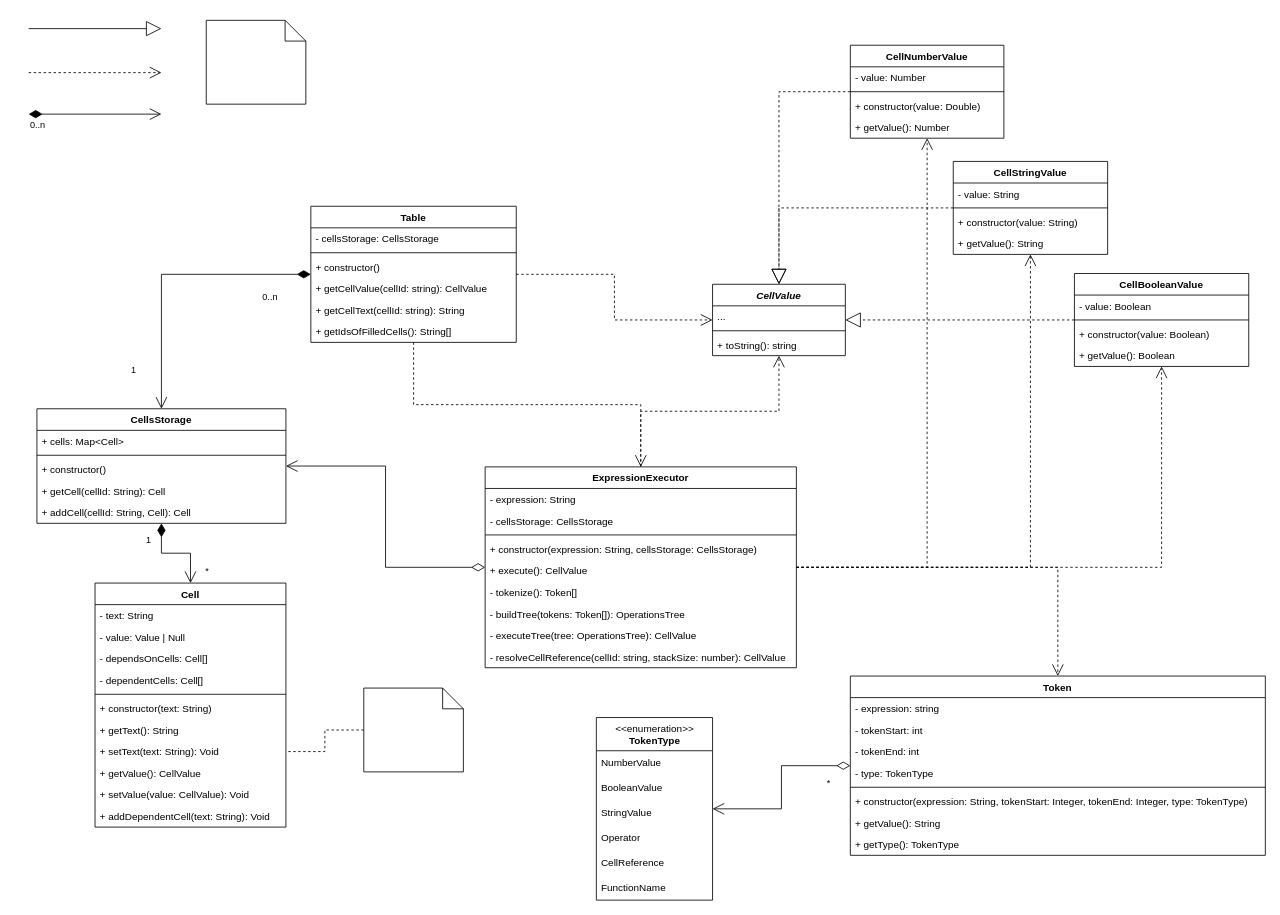
This 1280x915 diagram has some shape labels left out. Each missing label, with the centre of its shape:
Comment: (x=255, y=62)
The value becomes null after a text change: (x=413, y=729)
